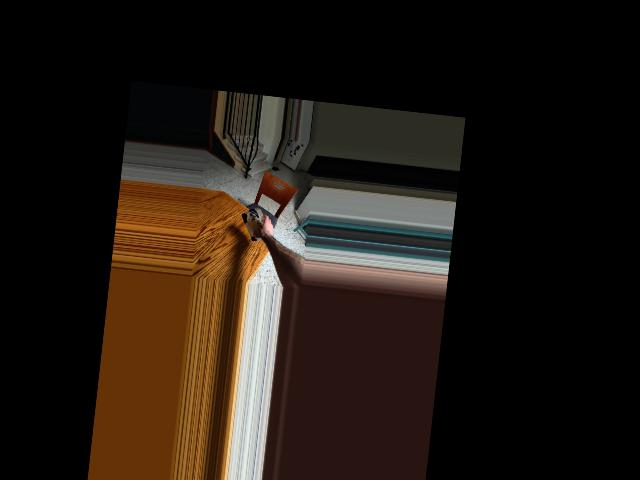cheese: (239, 206, 275, 245)
